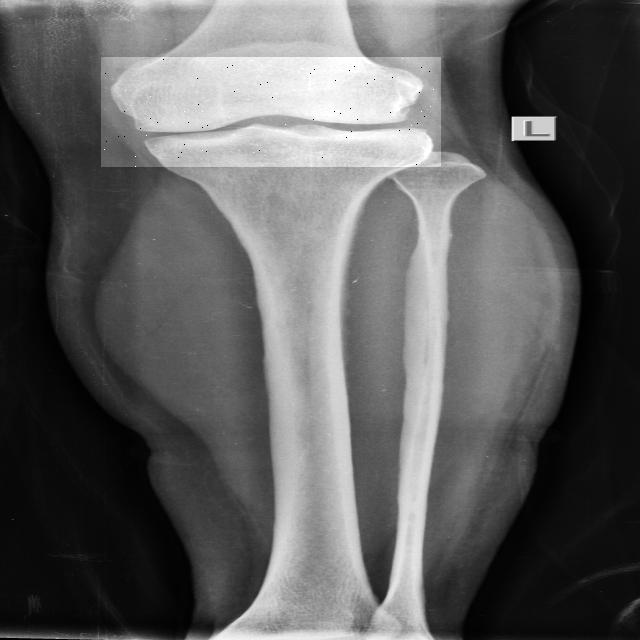normal: (101, 57, 441, 167)
